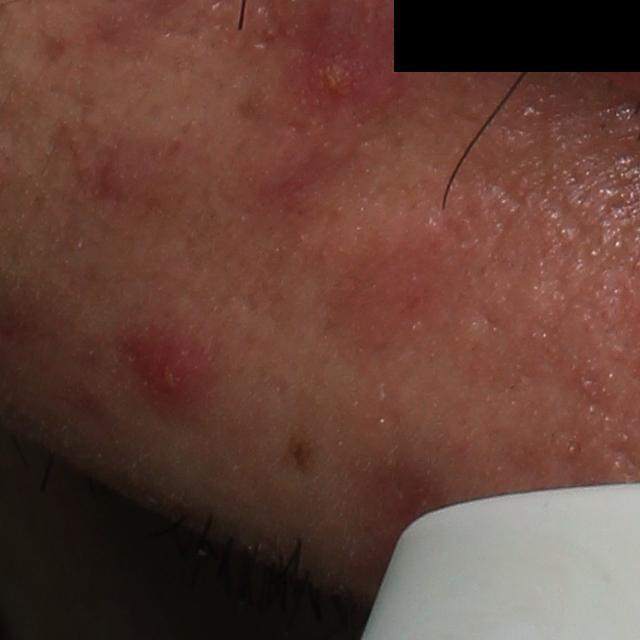nevus: (284, 432, 321, 476)
